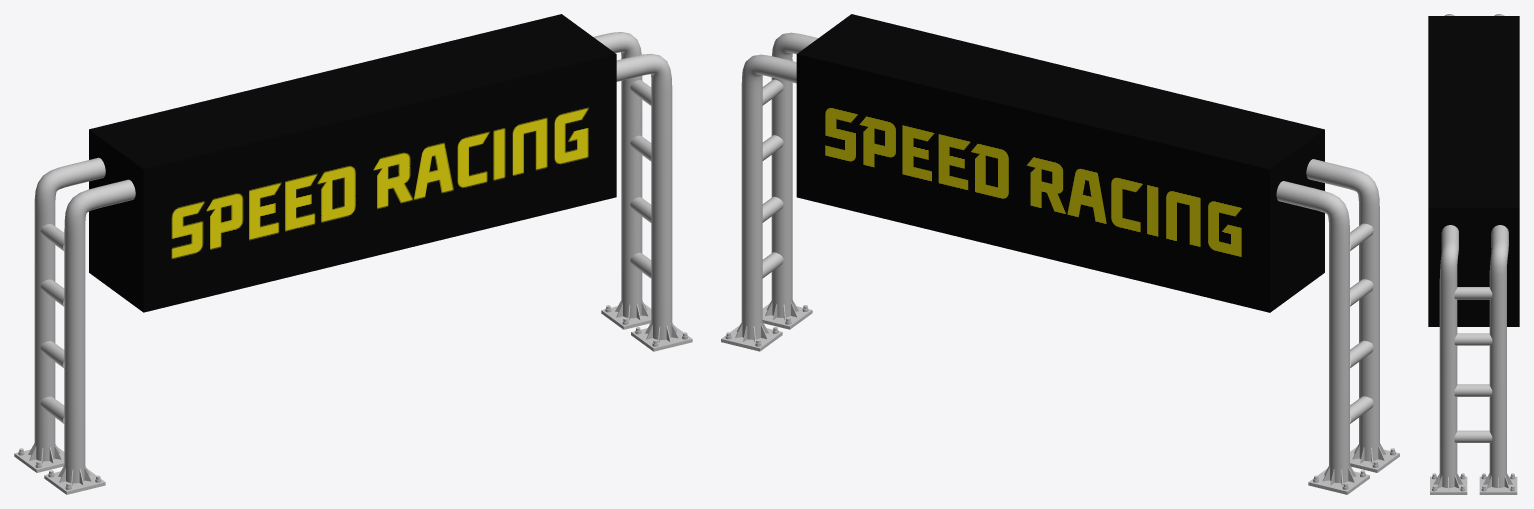
File: Title Sign1.fbx
The picture shows the model from 3 angles, left to right: view 1: azimuth 30°, elevation 25°; view 2: azimuth 150°, elevation 25°; view 3: azimuth 270°, elevation 25°; orthographic projection. The views are drawn at different scales.
Visible parts, largest first — view 1: Cylinder.002, Cylinder.001; view 2: Cylinder.002, Cylinder.001; view 3: Cylinder.002, Cylinder.001.
Part boxes in pixels (box(x1,y1,x2,y2)): Cylinder.002: box(89, 14, 616, 312); Cylinder.001: box(14, 32, 692, 494); Cylinder.002: box(796, 14, 1324, 312); Cylinder.001: box(721, 32, 1399, 494); Cylinder.002: box(1428, 16, 1519, 326); Cylinder.001: box(1430, 14, 1517, 494).
Size of the model in its own units: 9589 by 4504 by 1453.
